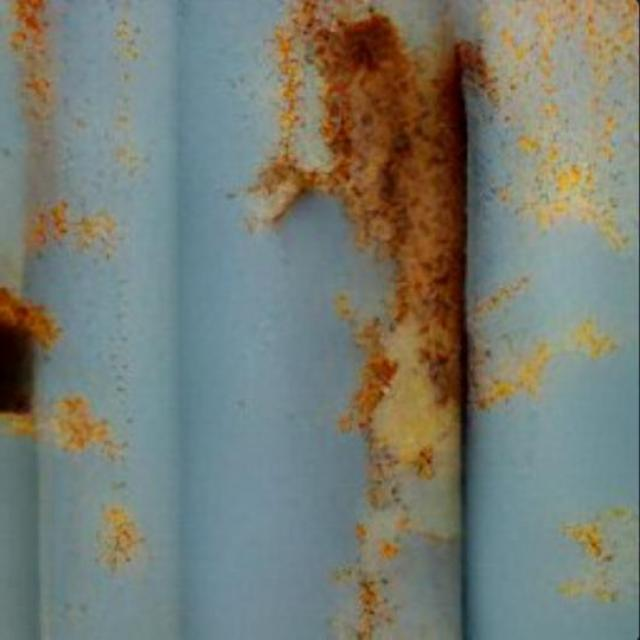Corrosion: (251, 0, 468, 640), (10, 0, 54, 124), (26, 199, 116, 256), (0, 288, 59, 348), (52, 396, 108, 452), (100, 507, 143, 570)
